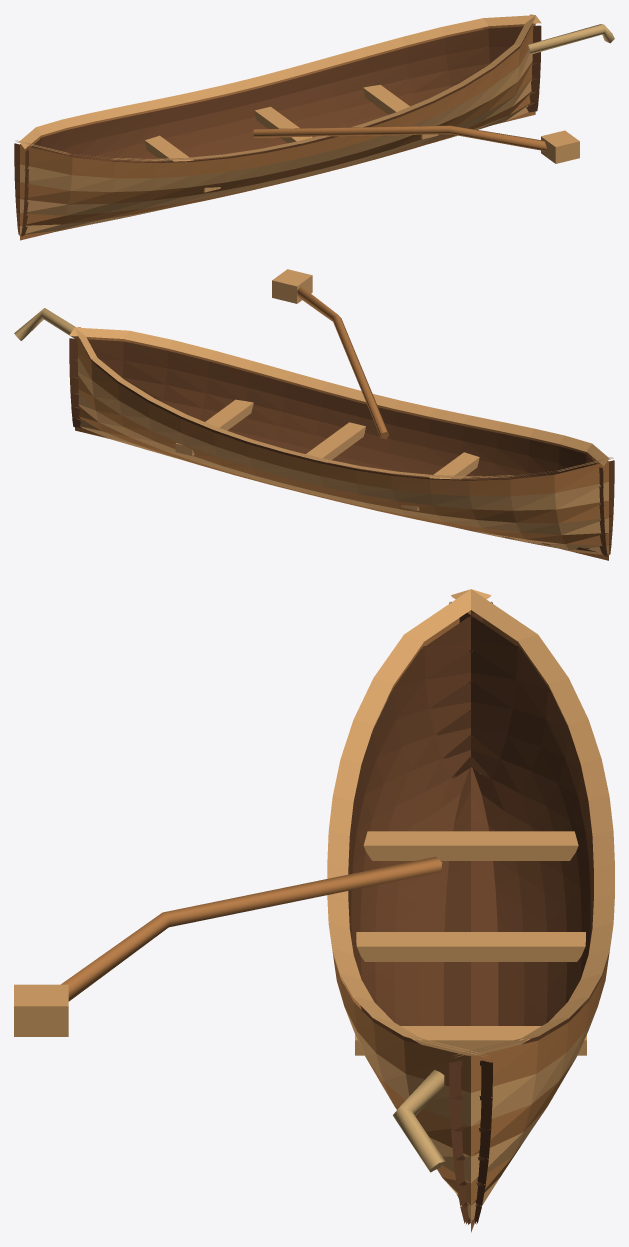
The model's file is boat.obj.
3 renders of one model, top to bottom at view 1: azimuth 30°, elevation 25°; view 2: azimuth 150°, elevation 25°; view 3: azimuth 270°, elevation 25°, orthographic. The views are drawn at different scales.
Parts seen in each view (by area): view 1: boat_wood_dark, boat_wood_light, boat_wood_mid, boat_rope; view 2: boat_wood_dark, boat_wood_light, boat_wood_mid, boat_rope; view 3: boat_wood_dark, boat_wood_light, boat_wood_mid, boat_rope.
Boxes of the visible parts, left/top/right/bottom form: boat_wood_dark: left=14, top=25, right=541, bottom=236; boat_wood_light: left=15, top=14, right=579, bottom=234; boat_wood_mid: left=20, top=23, right=546, bottom=240; boat_rope: left=528, top=24, right=614, bottom=54; boat_wood_dark: left=69, top=338, right=614, bottom=556; boat_wood_light: left=69, top=269, right=613, bottom=554; boat_wood_mid: left=75, top=286, right=608, bottom=560; boat_rope: left=14, top=308, right=75, bottom=340; boat_wood_dark: left=348, top=601, right=593, bottom=1224; boat_wood_light: left=14, top=589, right=614, bottom=1222; boat_wood_mid: left=61, top=610, right=611, bottom=1232; boat_rope: left=393, top=1070, right=445, bottom=1172.
Size of the model in its own units: 3.63 by 0.59 by 1.76.
